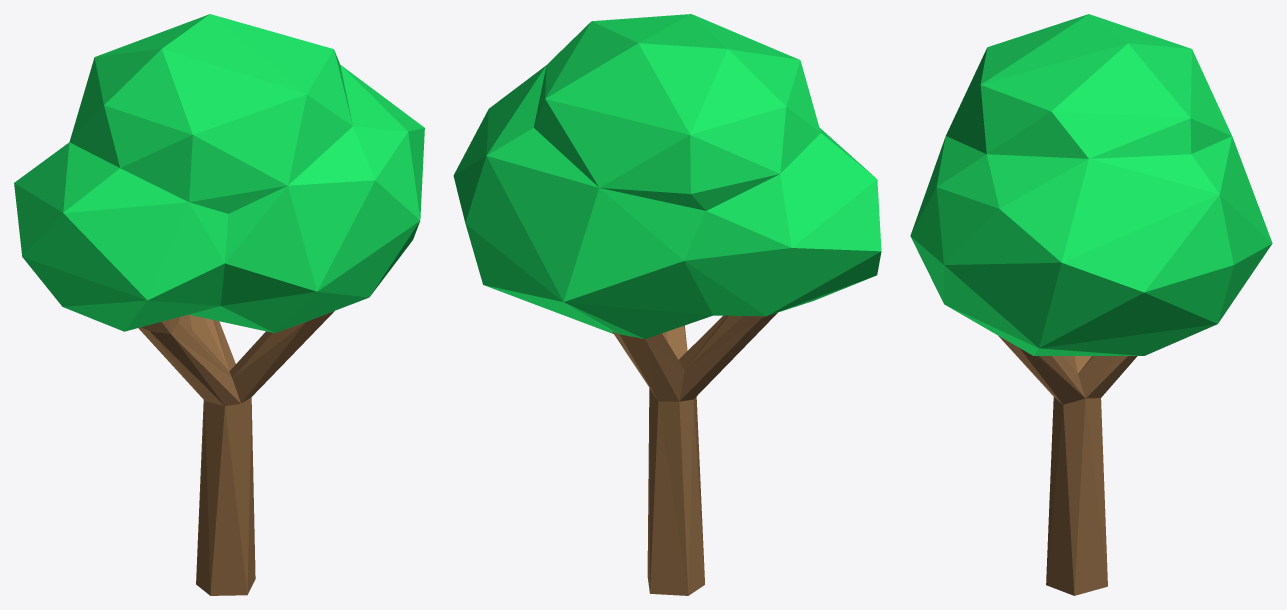
Rendered from Tree_scaled.gltf.
3 views of the same model, side by side, from view 1: azimuth 30°, elevation 25°; view 2: azimuth 150°, elevation 25°; view 3: azimuth 270°, elevation 25° (orthographic). The views are drawn at different scales.
Visible parts, largest first — view 1: Icosphere_Material.001_0; view 2: Icosphere_Material.001_0; view 3: Icosphere_Material.001_0.
Boxes of the visible parts, x1,y1,x2,y2 form: Icosphere_Material.001_0: (14,14,424,595); Icosphere_Material.001_0: (453,14,881,595); Icosphere_Material.001_0: (910,14,1272,595).
Bounding box in the file's own units: 0.0564 × 0.075 × 0.0453.
Materials: 1 (1 with a texture image).
